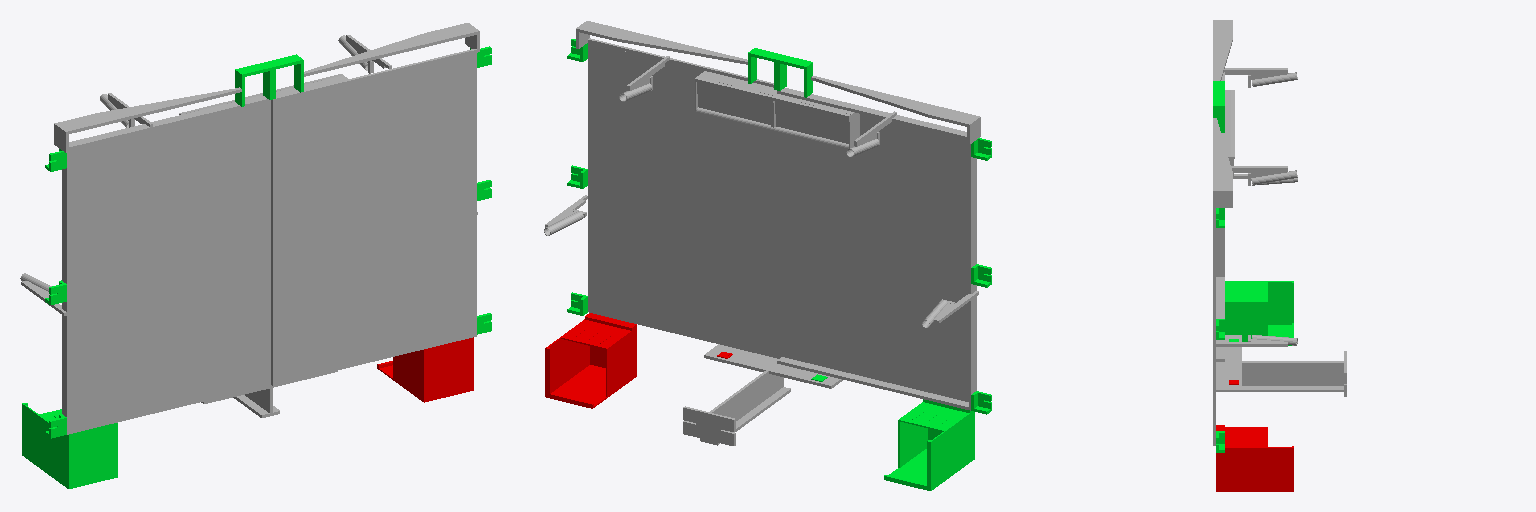
URDF robot description (eu_map):
<?xml version="1.0" encoding="utf-8"?>
<robot name="eu_map">
  <link name="base">
    <inertial>
      <origin xyz="0.632 0.319218941056408 2.02586558889897" rpy="0 0 0" />
      <mass value="1.51257705353669" />
      <inertia ixx="0.00463274442511301" ixy="1.00433543366123E-18" ixz="4.27022529234711E-19" iyy="0.00091028657539534" iyz="0.00113130221083197" izz="0.00372245784971767" />
    </inertial>
    <visual>
      <origin xyz="0 0 0" rpy="0 0 0" />
      <geometry>
        <mesh filename="package://eu_map/visualSTL/base.STL" />
      </geometry>
      <material name="C0C0C0">
        <color rgba="0.752941176470588 0.752941176470588 0.752941176470588 1" />
      </material>
    </visual>
    <collision>
      <origin xyz="0 0 0" rpy="0 0 0" />
      <geometry>
        <mesh filename="package://eu_map/collisionSTL/base.STL" />
      </geometry>
    </collision>
  </link>
  <link name="wall">
    <inertial>
      <origin xyz="2.03927499939365 0.00537707904736866 0.985210015716823" rpy="0 0 0" />
      <mass value="82.1677084988886" />
      <inertia ixx="6.32615381758222" ixy="1.51891070252298" ixz="0.214986781470494" iyy="33.6461482644998" iyz="0.0453140274324194" izz="27.7545406582497" />
    </inertial>
    <visual>
      <origin xyz="0 0 0" rpy="0 0 0" />
      <geometry>
        <mesh filename="package://eu_map/visualSTL/wall.STL" />
      </geometry>
      <material name="C0C0C0">
        <color rgba="0.752941176470588 0.752941176470588 0.752941176470588 1" />
      </material>
    </visual>
    <collision>
      <origin xyz="0 0 0" rpy="0 0 0" />
      <geometry>
        <mesh filename="package://eu_map/collisionSTL/wall.STL" />
      </geometry>
    </collision>
  </link>
  <link name="green">
    <inertial>
      <origin xyz="0.70103014006501 0.147757821267723 0.460161045537049" rpy="0 0 0" />
      <mass value="15.3166063721216" />
      <inertia ixx="15.2381116236256" ixy="0.983382674902704" ixz="8.44343383856644" iyy="29.7603853976835" iyz="1.29495391020242" izz="14.9437990489998" />
    </inertial>
    <visual>
      <origin xyz="0 0 0" rpy="0 0 0" />
      <geometry>
        <mesh filename="package://eu_map/visualSTL/green.STL" />
      </geometry>
      <material name="40FF00">
        <color rgba="0 1 0.250980392156863 1" />
      </material>
    </visual>
    <collision>
      <origin xyz="0 0 0" rpy="0 0 0" />
      <geometry>
        <mesh filename="package://eu_map/collisionSTL/green.STL" />
      </geometry>
    </collision>
  </link>
  <link name="wall2">
    <inertial>
      <origin xyz="1.522 0.279765670475495 1.05473640972372" rpy="0 0 0" />
      <mass value="36.9216917694676" />
      <inertia ixx="40.8382342472597" ixy="7.89265624237081E-15" ixz="2.99637386427891E-14" iyy="56.3769277171348" iyz="7.1474400781564" izz="21.5782197611293" />
    </inertial>
    <visual>
      <origin xyz="0 0 0" rpy="0 0 0" />
      <geometry>
        <mesh filename="package://eu_map/visualSTL/wall2.STL" />
      </geometry>
      <material name="C0C0C0">
        <color rgba="0.752941176470588 0.752941176470588 0.752941176470588 1" />
      </material>
    </visual>
    <collision>
      <origin xyz="0 0 0" rpy="0 0 0" />
      <geometry>
        <mesh filename="package://eu_map/collisionSTL/wall2.STL" />
      </geometry>
    </collision>
  </link>
  <link name="rad">
    <inertial>
      <origin xyz="2.85949609243289 0.224948781021018 -0.210597795334547" rpy="0 0 0" />
      <mass value="9.401502" />
      <inertia ixx="0.0962599839346136" ixy="0.0127470983198622" ixz="0.00899544917142416" iyy="0.0719044832540436" iyz="0.0311669010655513" izz="0.1070506704314" />
    </inertial>
    <visual>
      <origin xyz="0 0 0" rpy="0 0 0" />
      <geometry>
        <mesh filename="package://eu_map/visualSTL/rad.STL" />
      </geometry>
      <material name="0000FF">
        <color rgba="1 0 0 1" />
      </material>
    </visual>
    <collision>
      <origin xyz="0 0 0" rpy="0 0 0" />
      <geometry>
        <mesh filename="package://eu_map/collisionSTL/rad.STL" />
      </geometry>
    </collision>
  </link>
  <joint name="base-wall" type="fixed">
    <origin xyz="0 0 0" rpy="0 0 0" />
    <parent link="base" />
    <child link="wall" />
    <axis xyz="0 0 0" />
    <dynamics damping="0" friction="0" />
  </joint>
  <joint name="base-green" type="fixed">
    <origin xyz="0 0 0" rpy="0 0 0" />
    <parent link="base" />
    <child link="green" />
    <axis xyz="0 0 0" />
    <dynamics damping="0" friction="0" />
  </joint>
  <joint name="base-wall2" type="fixed">
    <origin xyz="0 0 0" rpy="0 0 0" />
    <parent link="base" />
    <child link="wall2" />
    <axis xyz="0 0 0" />
    <dynamics damping="0" friction="0" />
  </joint>
  <joint name="base-rad" type="fixed">
    <origin xyz="0 0 0" rpy="0 0 0" />
    <parent link="base" />
    <child link="rad" />
    <axis xyz="0 0 0" />
    <dynamics damping="0" friction="0" />
  </joint>
  <gazebo>
    <plugin name="clock" filename="libgz_clock.so">
      <topic>/gazebo/frc/time</topic>
    </plugin>
  </gazebo>
</robot>

--- What the picture shows (computed from the rendered views, not written in the file) ---
Views: 3 orthographic renders of the robot side by side, from view 1: azimuth 30°, elevation 25°; view 2: azimuth 150°, elevation 25°; view 3: azimuth 270°, elevation 25°.
Model eu_map with 5 links and 4 joints (4 fixed), rooted at base, posed all joints at 0.
Visible links, largest first — view 1: wall, green, wall2, rad; view 2: wall, wall2, green, rad, base; view 3: wall2, green, rad, wall, base.
Boxes of the visible links, x1,y1,x2,y2 form: wall: (62,49,476,434); green: (22,46,491,488); wall2: (20,23,479,417); rad: (377,337,473,402); wall: (588,38,976,410); wall2: (544,21,980,445); green: (567,39,991,490); rad: (545,313,732,408); base: (846,111,896,156); wall2: (1213,20,1346,396); green: (1213,81,1293,452); rad: (1216,380,1293,491); wall: (1213,72,1241,445); base: (1224,68,1297,87).
Bounding box of the posed robot: 3.29 × 1.02 × 2.67 m (x, y, z).
5 mesh visuals loaded from 5 distinct referenced files (5 binary STL).